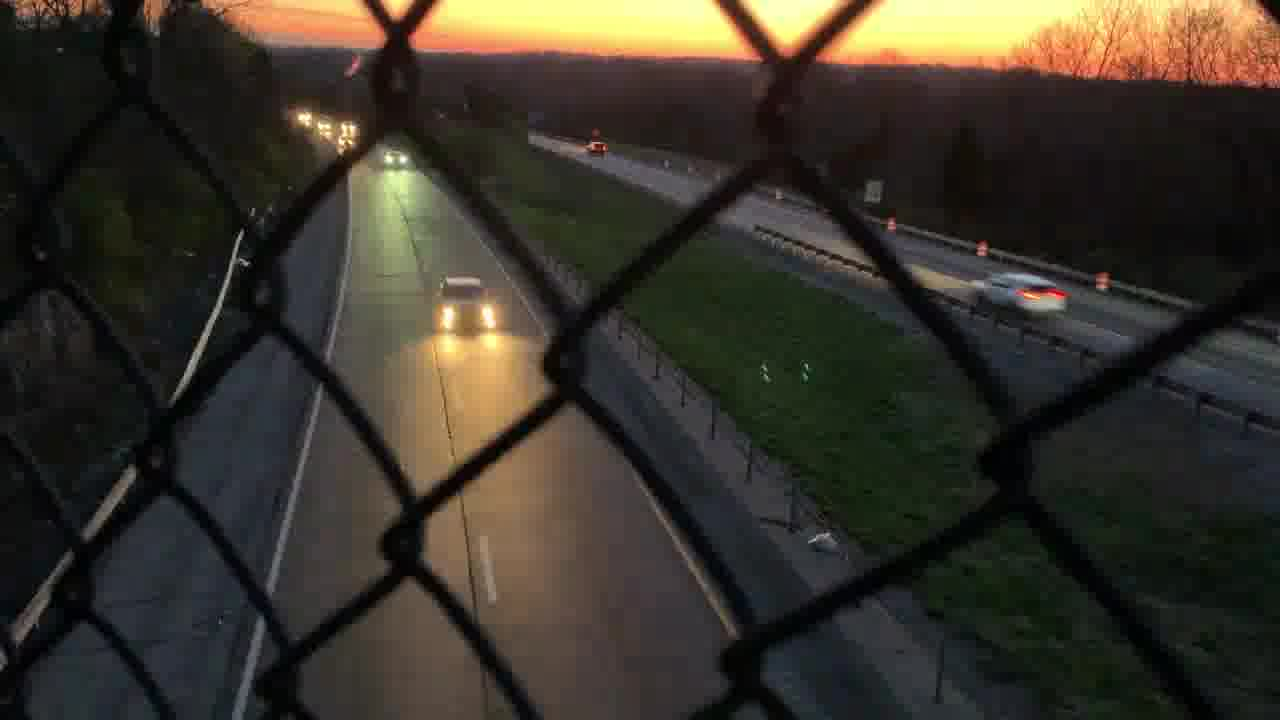largeCar: (970, 268, 1069, 322)
smallCar: (434, 276, 498, 338)
